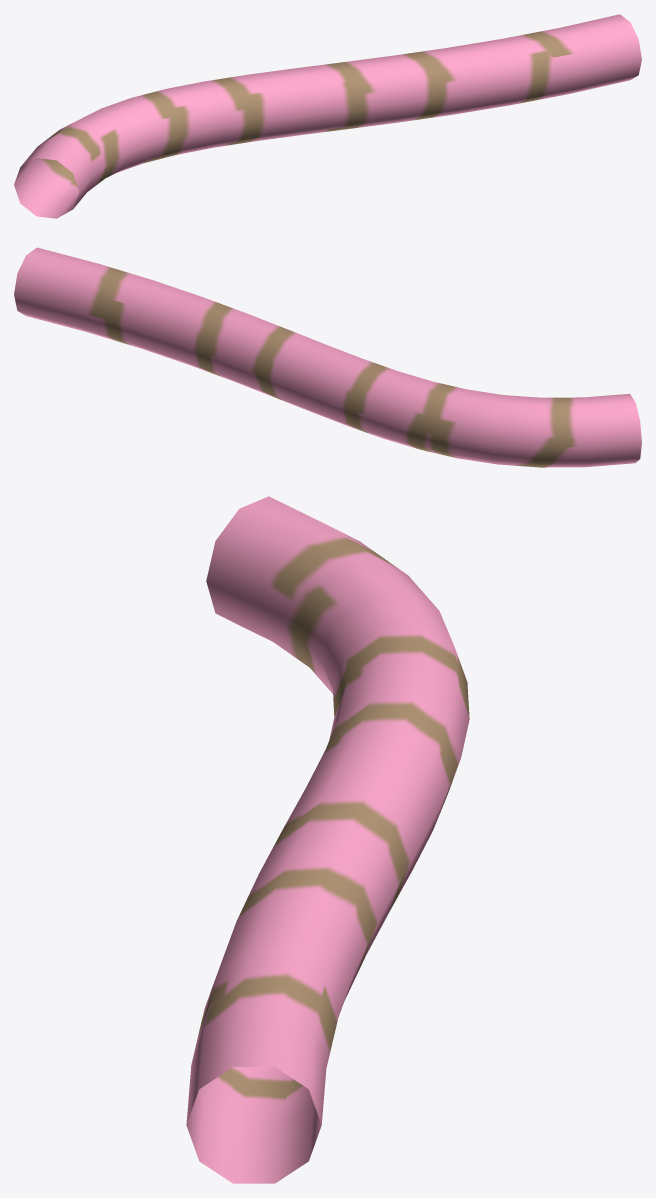
The model's file is worm.glb.
3 renders of one model, top to bottom at view 1: azimuth 30°, elevation 25°; view 2: azimuth 150°, elevation 25°; view 3: azimuth 270°, elevation 25°, orthographic. The views are drawn at different scales.
Parts seen in each view (by area): view 1: BezierCurve; view 2: BezierCurve; view 3: BezierCurve.
Part boxes in pixels (bbox=[...]): BezierCurve: bbox=[14, 14, 641, 218]; BezierCurve: bbox=[14, 247, 641, 467]; BezierCurve: bbox=[186, 496, 469, 1183].
Size of the model in its own units: 1.93 by 0.1799 by 0.3956.
1 material, 1 textured.
